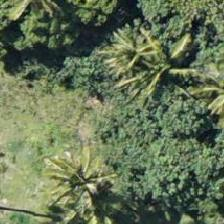coconut_tree: (84, 11, 174, 101), (28, 150, 118, 223)
